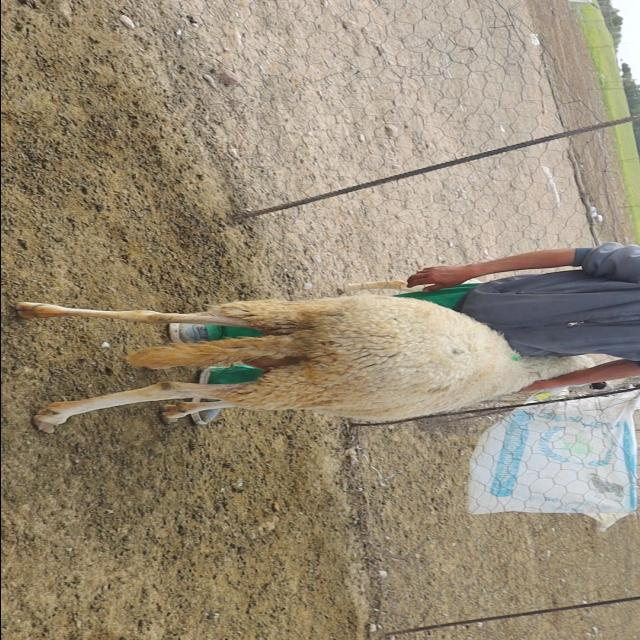Score_4: (15, 294, 581, 432)
